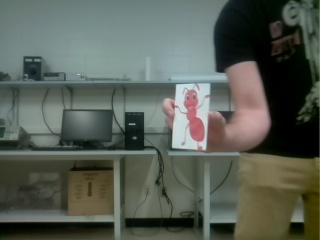Happy: (174, 83, 210, 151)
